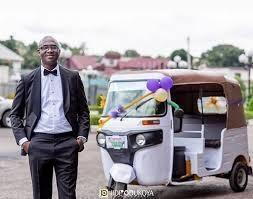keke: (91, 66, 251, 198)
